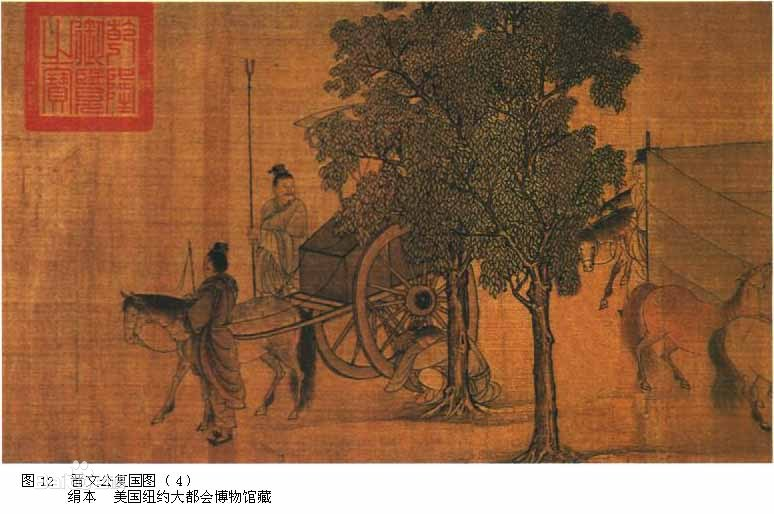horse: (119, 280, 325, 421), (621, 262, 774, 411), (579, 196, 639, 307)
man: (184, 233, 246, 447), (413, 330, 501, 410), (629, 149, 653, 235)
tree: (294, 2, 638, 463)
wagon: (291, 92, 485, 384)
weapon: (235, 51, 263, 294)
